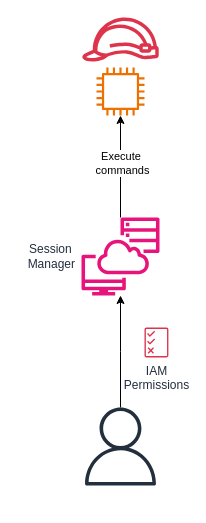
Image size: 206x523. Some labels were removed from this diagram. The box of each missing label's shape, as (x1, y1, x2, y2) in pixels:
EC2 Instance (SSM Agent): (96, 67, 144, 115)
User: (81, 407, 159, 485)
